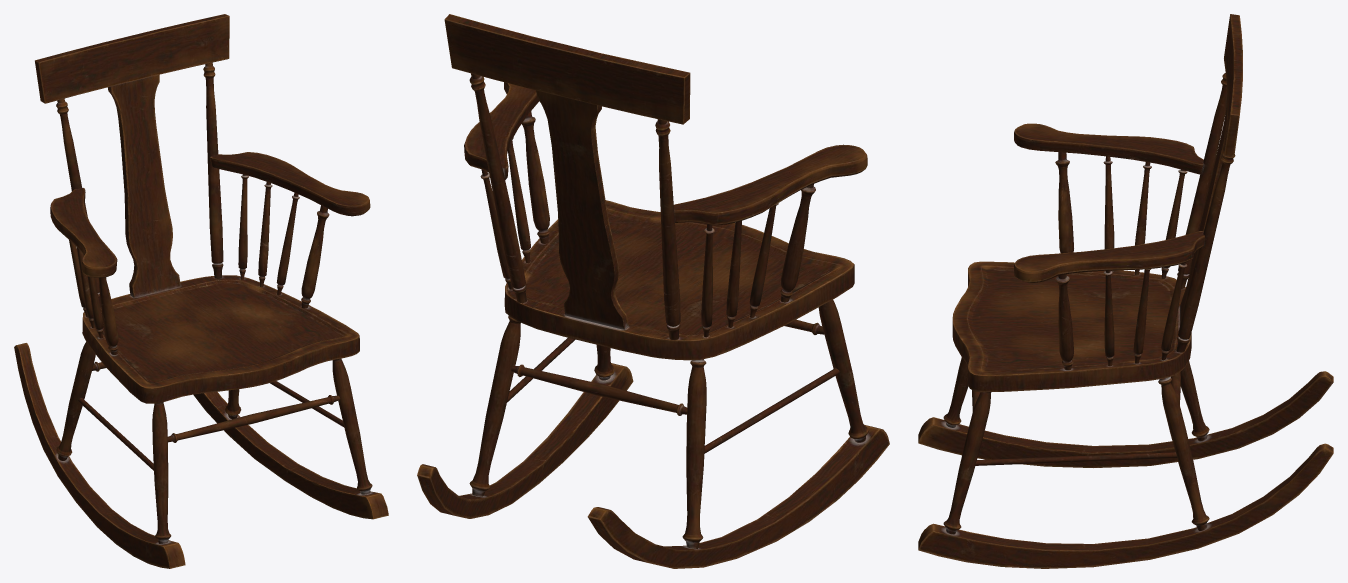
File: Rockingchair_01.glb
3 views of the same model, side by side, from view 1: azimuth 30°, elevation 25°; view 2: azimuth 150°, elevation 25°; view 3: azimuth 270°, elevation 25° (orthographic). The views are drawn at different scales.
Parts seen in each view (by area): view 1: Rockingchair_01; view 2: Rockingchair_01; view 3: Rockingchair_01.
Part boxes in pixels (<box>): Rockingchair_01: <box>14,14,388,568</box>; Rockingchair_01: <box>417,14,889,568</box>; Rockingchair_01: <box>918,14,1333,568</box>.
Size of the model in its own units: 0.7081 by 0.9949 by 0.8335.
1 material, 1 textured.
